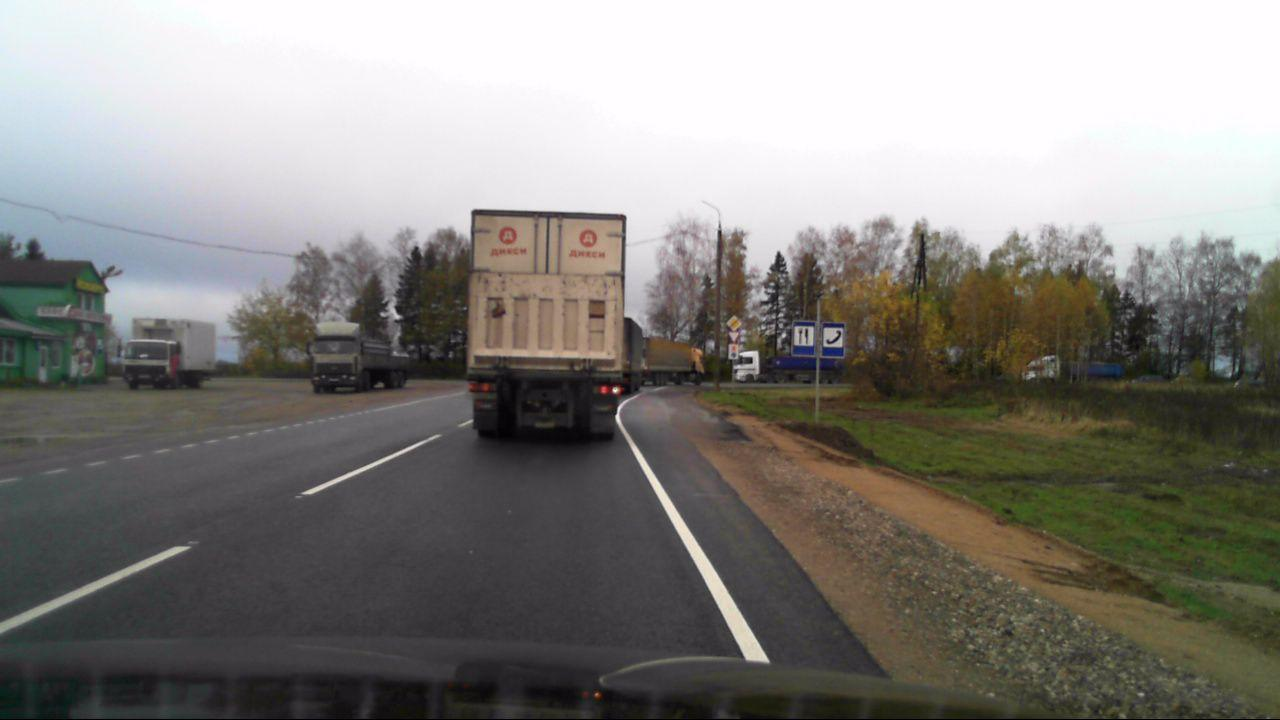2_2: (726, 314, 742, 331)
2_4: (727, 331, 741, 342)
4_8_2: (727, 344, 740, 360)
7_6: (822, 322, 844, 357)
7_7: (792, 322, 813, 354)
